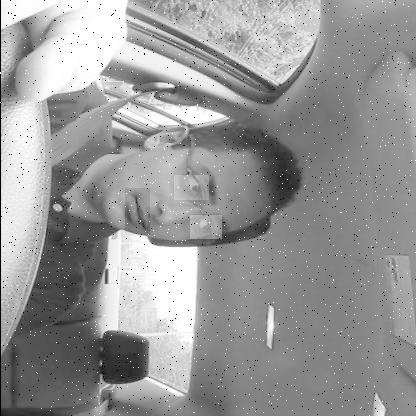seatbelt: (1, 77, 317, 253)
